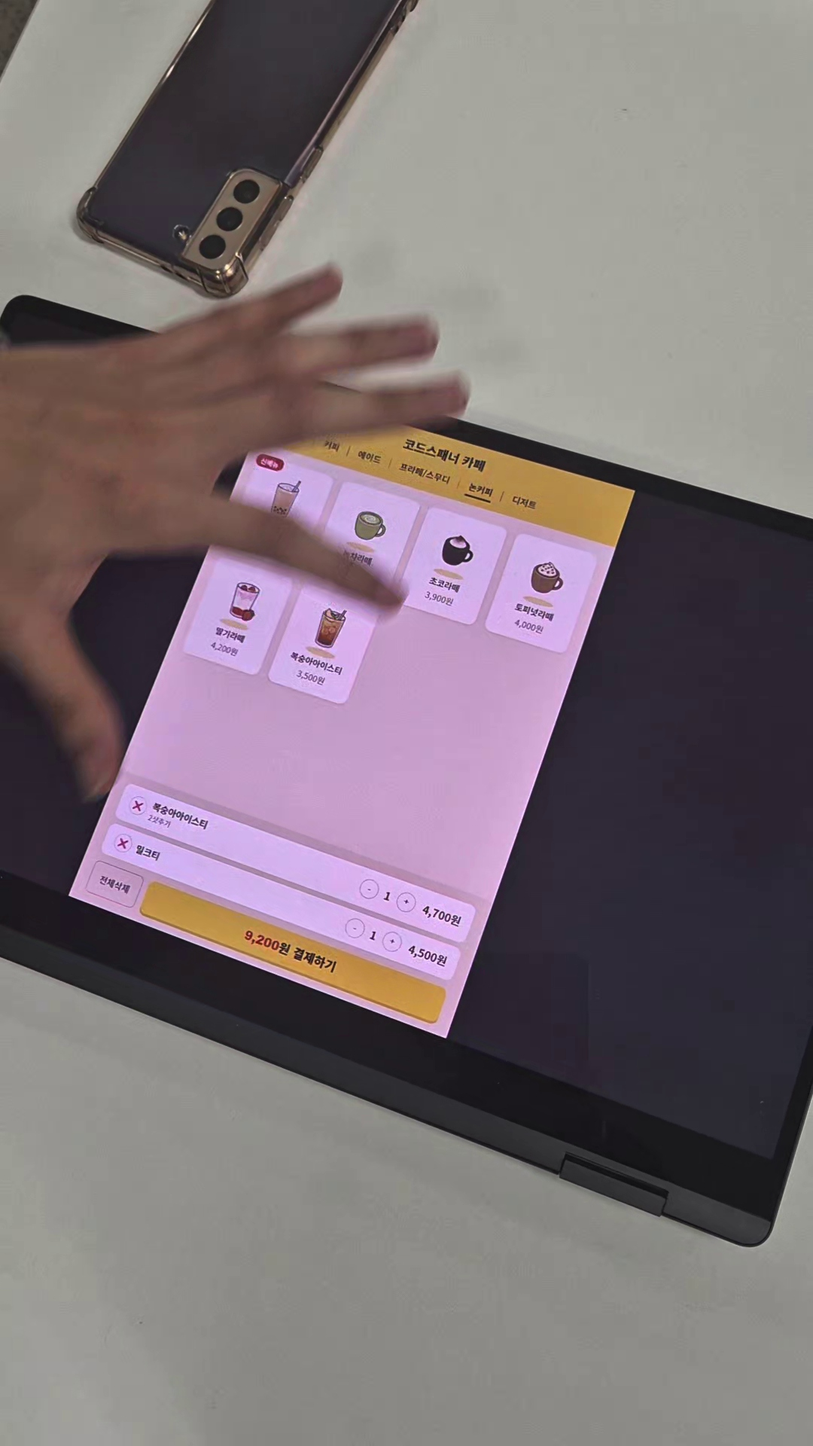action_button: (137, 880, 451, 1026), (83, 858, 146, 910)
cart_item: (109, 781, 480, 950), (97, 821, 463, 983)
category_tab: (393, 458, 459, 490), (509, 490, 543, 514), (356, 446, 386, 469), (466, 479, 498, 499), (317, 436, 345, 456)
menu_back: (481, 529, 602, 658), (264, 580, 384, 710), (178, 551, 296, 680), (307, 476, 424, 604), (393, 504, 509, 630)
menu_name: (285, 647, 345, 679), (509, 598, 558, 624), (209, 622, 249, 647), (424, 573, 462, 596)
menu_price: (239, 925, 295, 959), (418, 902, 465, 930), (406, 942, 451, 971), (293, 666, 331, 690), (205, 638, 244, 661), (419, 588, 457, 609), (511, 616, 546, 637)
